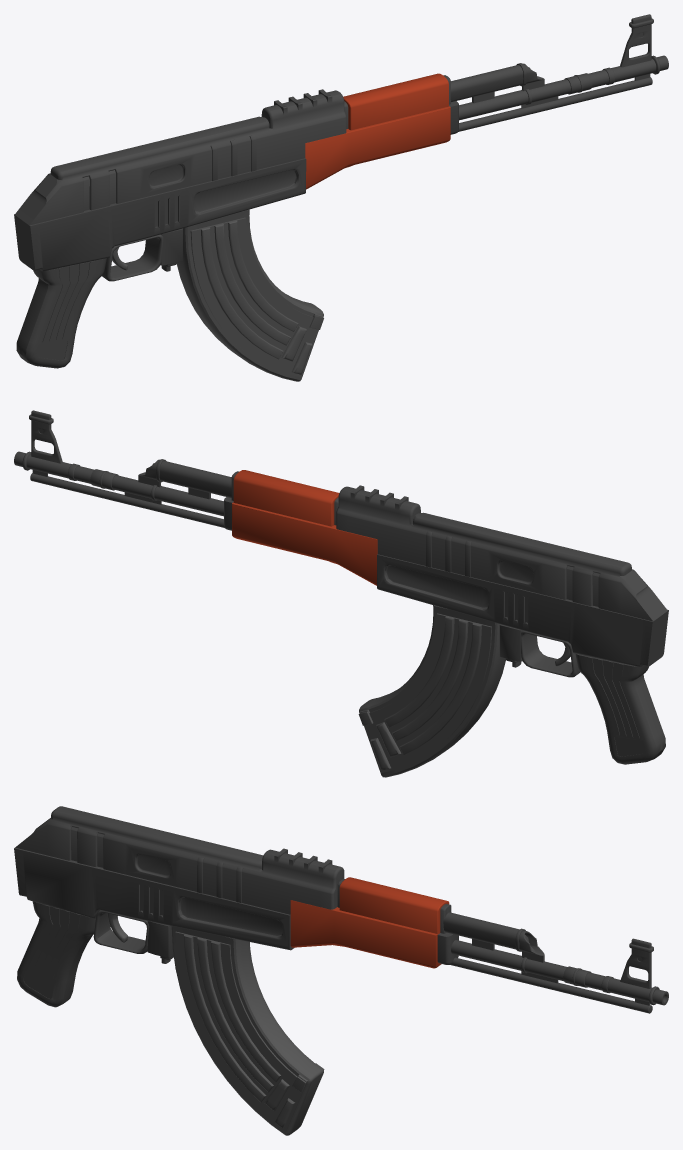
File: akvariant.fbx
3 views of the same model, one above another, from view 1: azimuth 30°, elevation 25°; view 2: azimuth 150°, elevation 25°; view 3: azimuth 330°, elevation 25° (orthographic).
Parts seen in each view (by area): view 1: Cube.005, Cube.003; view 2: Cube.005, Cube.003; view 3: Cube.005, Cube.003.
Part boxes in pixels (left/top/right/bottom): Cube.005: left=14, top=14, right=668, bottom=368; Cube.003: left=177, top=209, right=323, bottom=381; Cube.005: left=14, top=410, right=668, bottom=764; Cube.003: left=358, top=605, right=505, bottom=777; Cube.005: left=14, top=806, right=668, bottom=1013; Cube.003: left=171, top=926, right=324, bottom=1135.
Size of the model in its own units: 273 by 112 by 14.61.
Materials: 2 (2 with a texture image).
